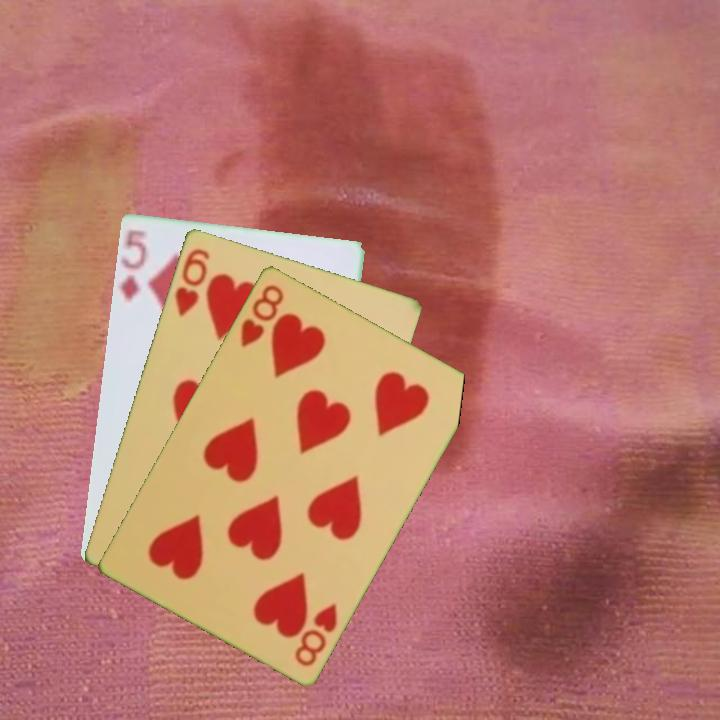5d: (115, 226, 149, 305)
6h: (171, 244, 212, 319)
8h: (236, 280, 287, 350), (290, 598, 340, 669)
